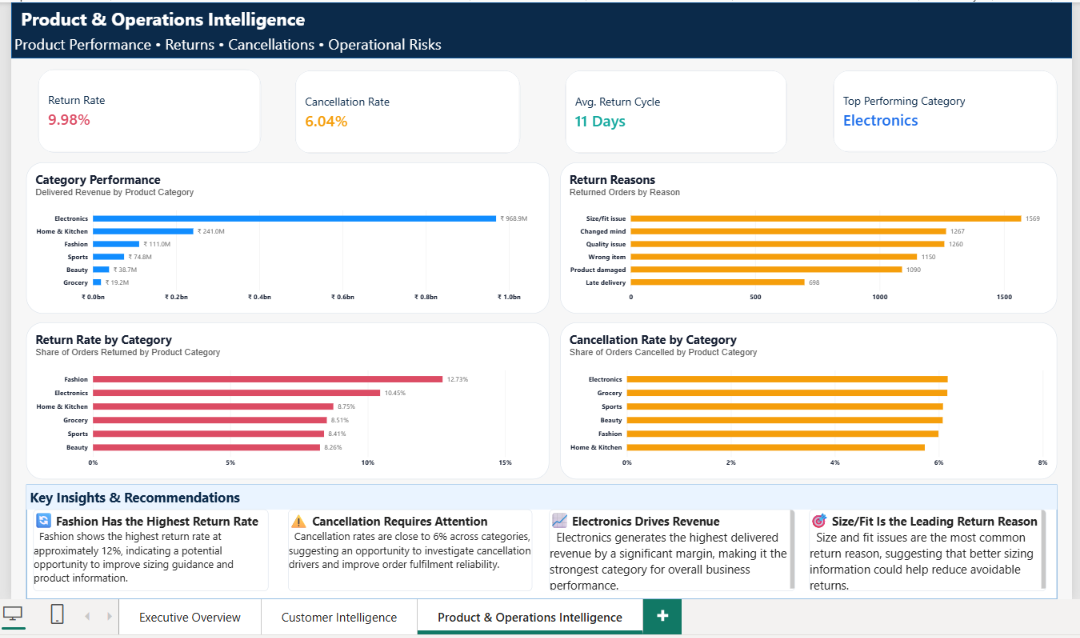

The page's visual inventory and layout, read from the dashboard file:
{"tool":"powerbi","page":{"name":"Product & Operations Intelligence","canvas":[1920,1080],"ordinal":2},"visuals":[{"type":"shape","box":[0,0,1920.1,101.3],"z":0},{"type":"cardVisual","fields":{"Data":["public orders.Return Rate"]},"box":[48.9,121.2,403.6,150.2],"z":1000},{"type":"cardVisual","fields":{"Data":["public orders.Cancel Rate"]},"box":[513.3,123.1,407.2,150.2],"z":2000},{"type":"cardVisual","fields":{"Data":["public returns.Avg. Return Cycle"]},"box":[1003.2,123.1,401.7,150.2],"z":3000},{"type":"cardVisual","fields":{"Data":["public products.Top Performing Category"]},"box":[1487.5,123.1,405.4,148.4],"z":4000},{"type":"textbox","box":[0,0,807.1,50.7],"z":5000},{"type":"textbox","box":[0,50.7,859.6,50.7],"z":6000},{"type":"clusteredBarChart","title":"Category Performance","fields":{"Category":["public products.category"],"Y":["public orders.Total Revenue"]},"box":[27.1,289.5,946.5,273.3],"z":7000},{"type":"clusteredBarChart","title":"Return Reasons","fields":{"Category":["public returns.return_reason"],"Y":["public returns.Return Count"]},"box":[993.5,289.5,899.4,273.3],"z":8000},{"type":"clusteredBarChart","title":"Return Rate by Category","fields":{"Category":["public products.category"],"Y":["public orders.Return Rate"]},"box":[27.1,579.1,946.5,284.1],"z":9000},{"type":"clusteredBarChart","title":"Cancellation Rate by Category","fields":{"Category":["public products.category"],"Y":["public orders.Cancel Rate"]},"box":[993.5,579.1,899.4,284.1],"z":10000},{"type":"shape","box":[27.1,872.3,1865.8,208.1],"z":11000},{"type":"textbox","box":[27.1,872.3,1865.8,45.2],"z":12000},{"type":"textbox","box":[39.8,917.5,425.3,148.4],"z":13000},{"type":"textbox","box":[501.3,917.5,441.6,148.4],"z":14000},{"type":"textbox","box":[100,100,300,300],"z":15000},{"type":"textbox","box":[973.6,917.5,445.2,148.4],"z":16000},{"type":"textbox","box":[1444.1,917.5,428.9,148.4],"z":17000}]}

Visuals, with their boxes on the page's 1920x1080 design canvas (x1, y1, x2, y2). These are canvas units, not pixel positions in the 1080x638 screenshot, which may show the page scaled, cropped or inside an application window:
shape: l=0, t=0, r=1920, b=101
cardVisual - public orders.Return Rate: l=49, t=121, r=452, b=271
cardVisual - public orders.Cancel Rate: l=513, t=123, r=920, b=273
cardVisual - public returns.Avg. Return Cycle: l=1003, t=123, r=1405, b=273
cardVisual - public products.Top Performing Category: l=1488, t=123, r=1893, b=272
textbox: l=0, t=0, r=807, b=51
textbox: l=0, t=51, r=860, b=101
"Category Performance" clusteredBarChart: l=27, t=290, r=974, b=563
"Return Reasons" clusteredBarChart: l=994, t=290, r=1893, b=563
"Return Rate by Category" clusteredBarChart: l=27, t=579, r=974, b=863
"Cancellation Rate by Category" clusteredBarChart: l=994, t=579, r=1893, b=863
shape: l=27, t=872, r=1893, b=1080
textbox: l=27, t=872, r=1893, b=918
textbox: l=40, t=918, r=465, b=1066
textbox: l=501, t=918, r=943, b=1066
textbox: l=100, t=100, r=400, b=400
textbox: l=974, t=918, r=1419, b=1066
textbox: l=1444, t=918, r=1873, b=1066
